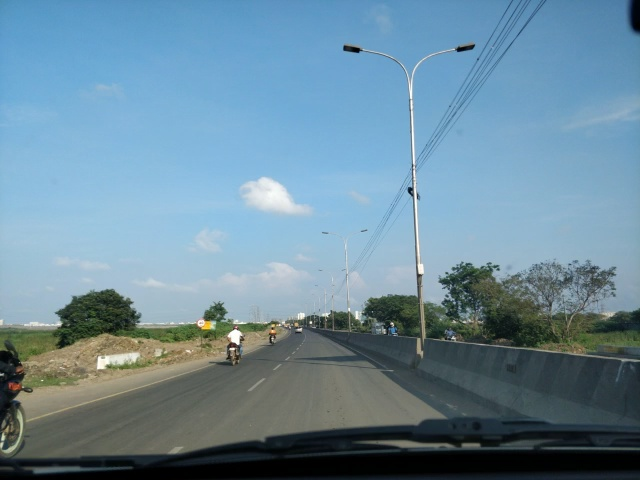car: (291, 325, 311, 335)
motorbike: (15, 316, 32, 452), (222, 318, 255, 376), (384, 313, 409, 353), (438, 317, 465, 350), (264, 320, 281, 350)
